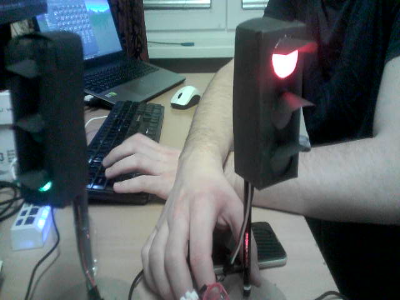trafficlight_green: (15, 41, 64, 200)
trafficlight_red: (263, 31, 303, 179)
